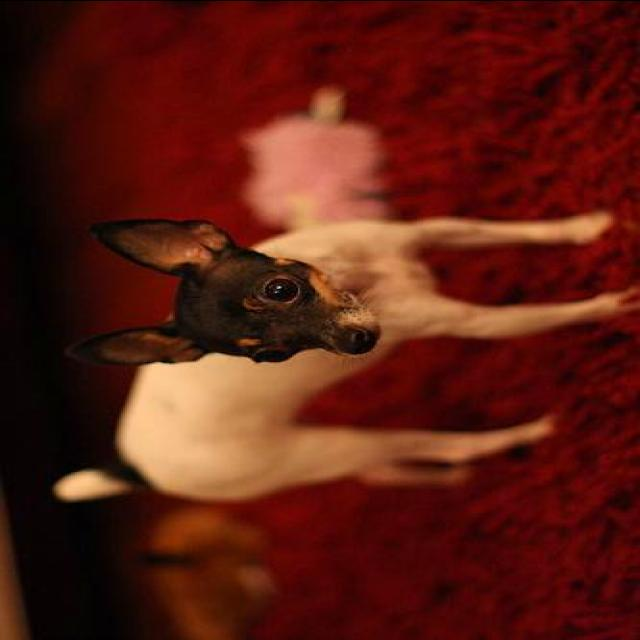toy_terrier: (50, 212, 638, 506)
